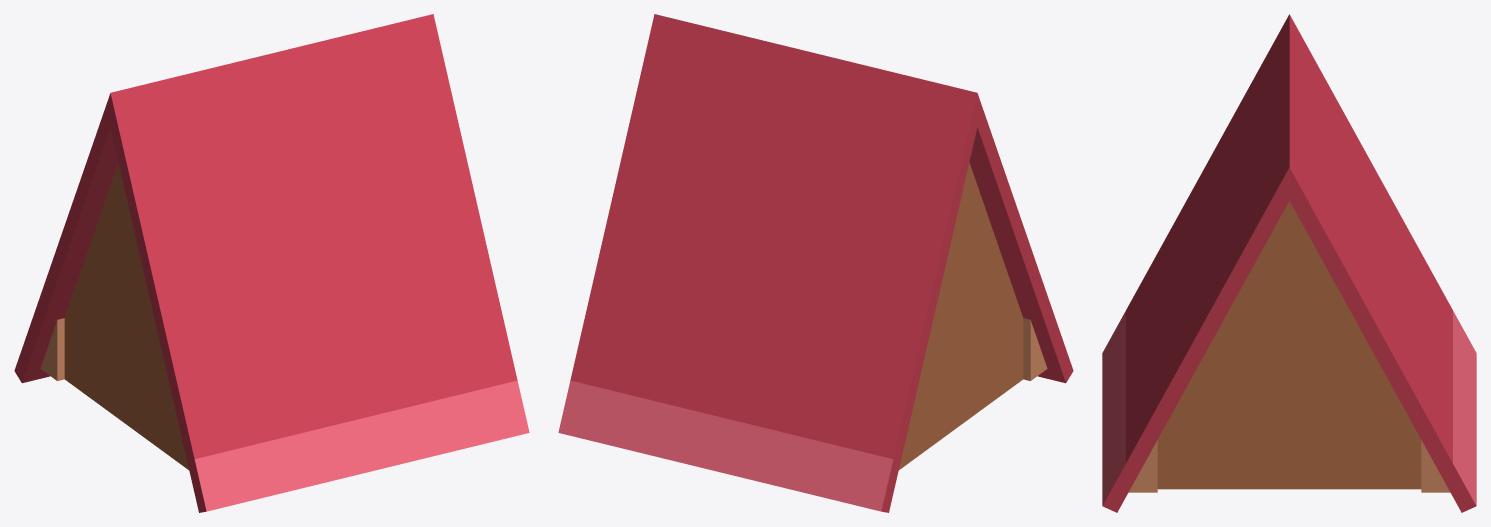
File: roofHighGable.fbx
The picture shows the model from 3 angles, left to right: view 1: azimuth 30°, elevation 25°; view 2: azimuth 150°, elevation 25°; view 3: azimuth 270°, elevation 25°; orthographic projection. The views are drawn at different scales.
Visible parts, largest first — view 1: roofHighGable; view 2: roofHighGable; view 3: roofHighGable.
Boxes of the visible parts, x1,y1,x2,y2 form: roofHighGable: (14,14,529,512); roofHighGable: (558,14,1073,512); roofHighGable: (1102,14,1476,512).
Bounding box in the file's own units: 11 × 11.57 × 11.34.
